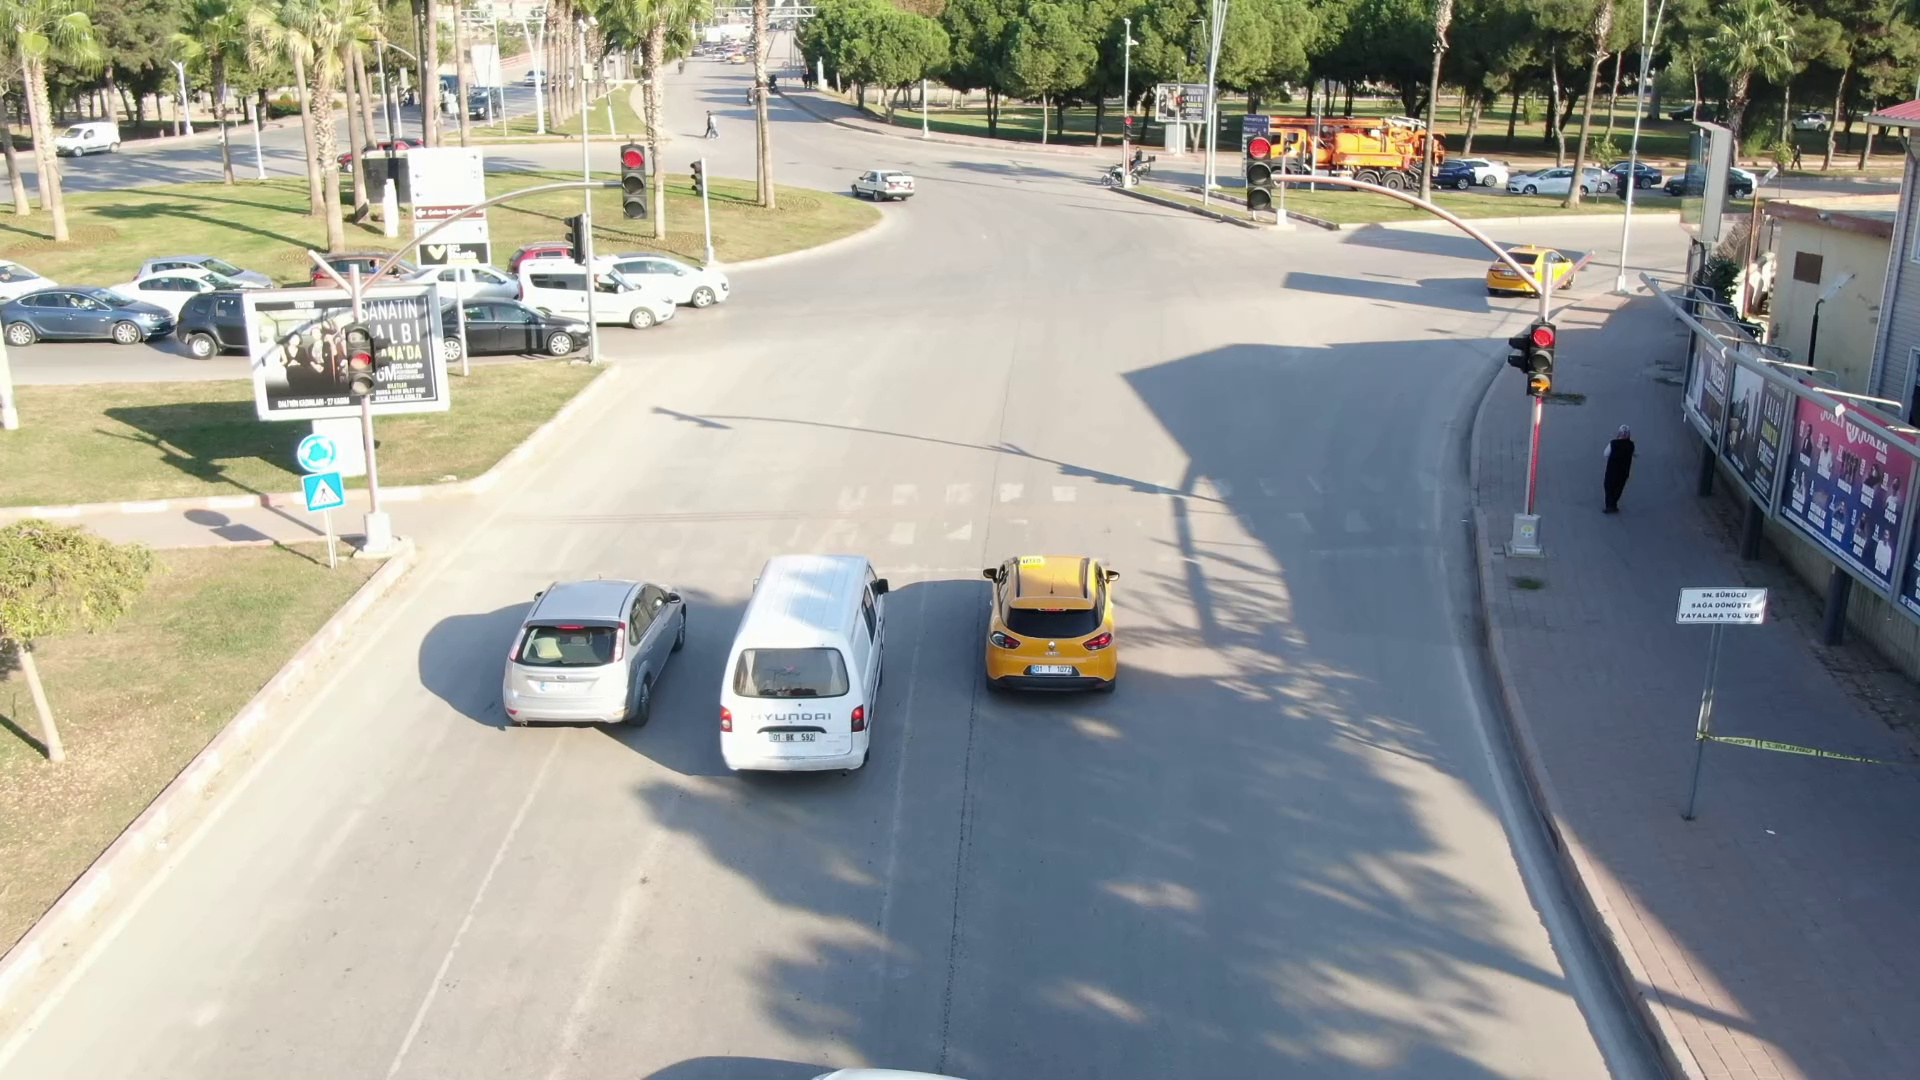car: (716, 555, 900, 776), (502, 568, 694, 729), (970, 537, 1129, 696), (510, 251, 670, 327), (435, 298, 604, 361), (596, 257, 747, 312), (1463, 245, 1586, 294), (853, 165, 925, 200)
person: (1592, 417, 1643, 535)
